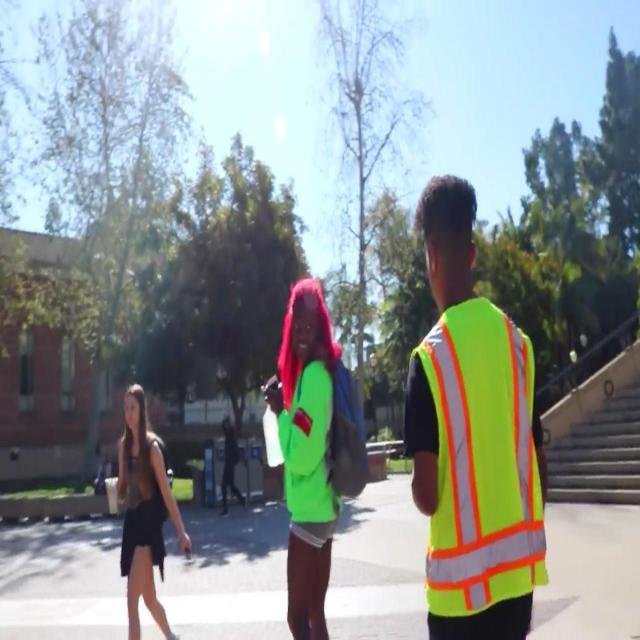Reflective-Jacket: (394, 292, 558, 618)
